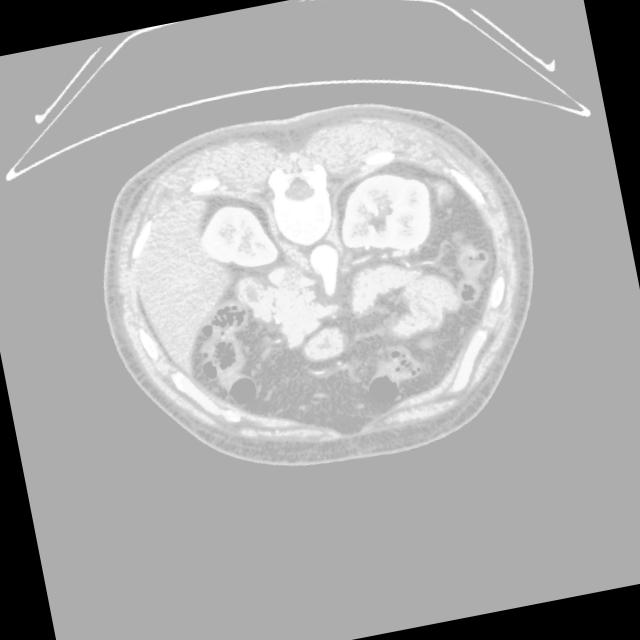NORMAL: (55, 77, 578, 510)
